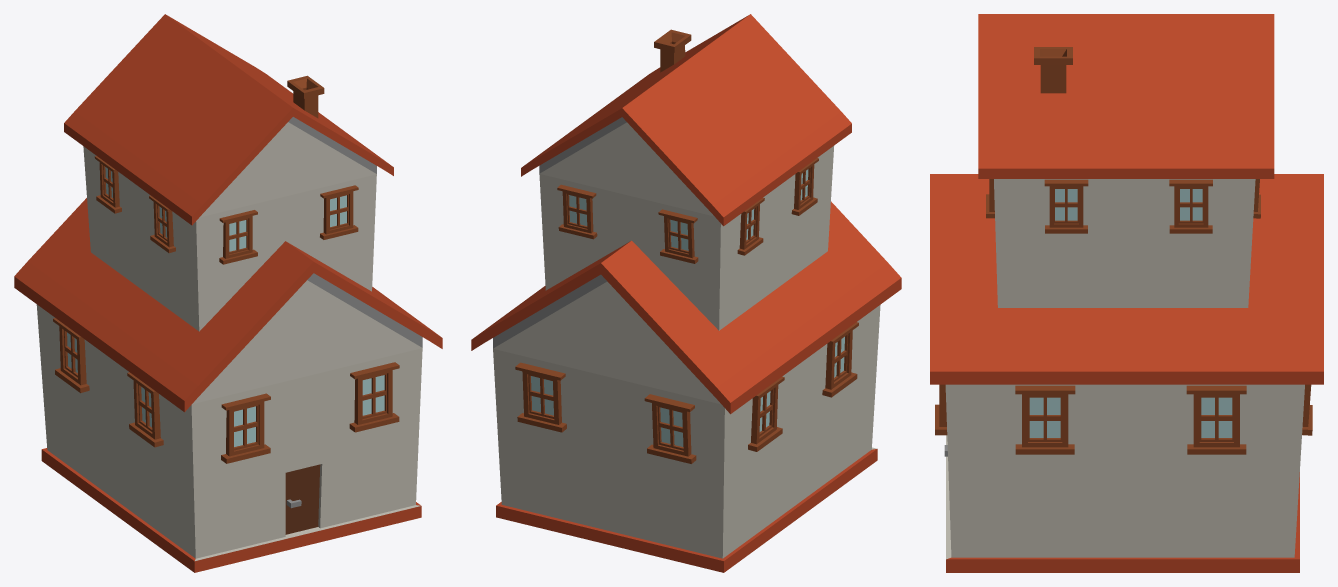
The model's file is house-3.glb.
3 renders of one model, left to right at view 1: azimuth 30°, elevation 25°; view 2: azimuth 150°, elevation 25°; view 3: azimuth 270°, elevation 25°, orthographic. The views are drawn at different scales.
Size of the model in its own units: 1.25 by 1.99 by 1.43.
